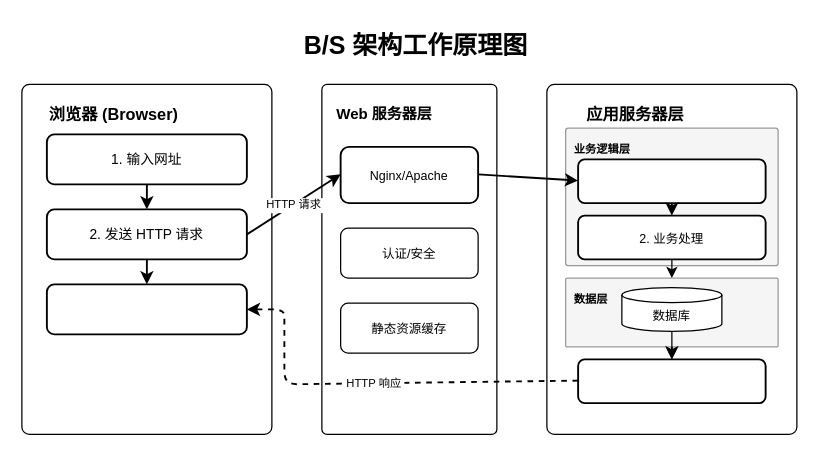
Image size: 819x456. Some labels were removed from this diagram. The box of each missing label's shape, as (x1, y1, x2, y2) in pixels:
1. 接收请求: (577, 158, 766, 204)
3. 渲染页面: (45, 283, 247, 335)
3. 返回响应: (577, 358, 766, 404)
